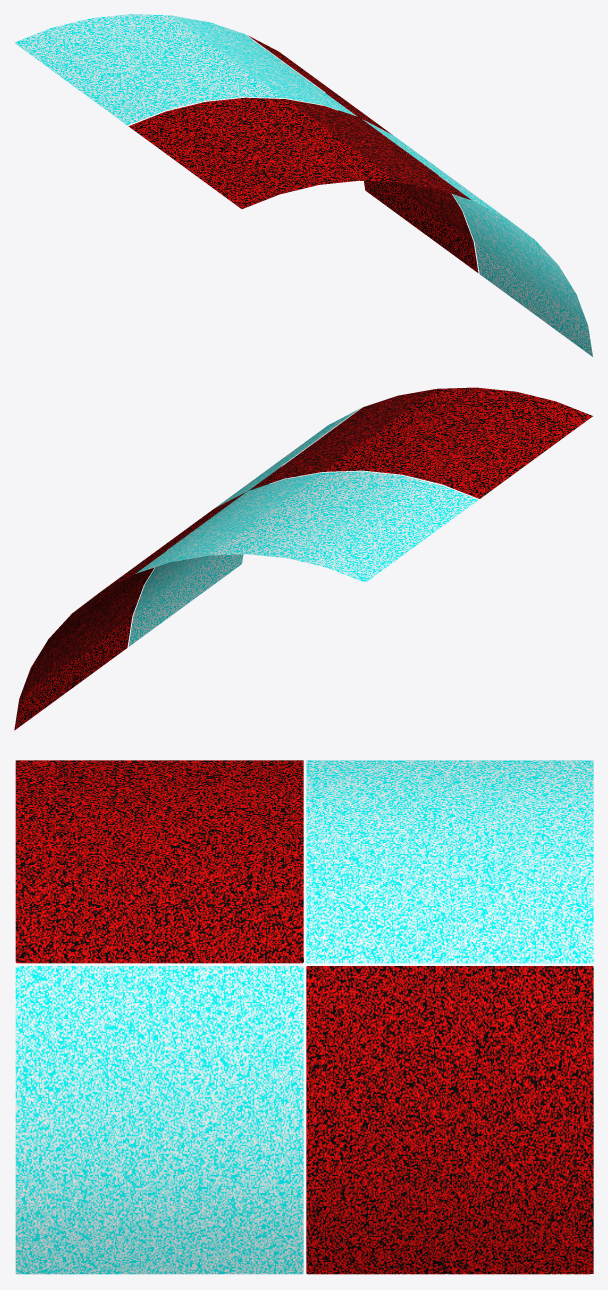
The model's file is SM_Simon_Wave_01_HJS.fbx.
The picture shows the model from 3 angles, top to bottom: view 1: azimuth 30°, elevation 25°; view 2: azimuth 150°, elevation 25°; view 3: azimuth 270°, elevation 25°; orthographic projection. The views are drawn at different scales.
Parts seen in each view (by area): view 1: SM_Simon_Wave_01_HJS; view 2: SM_Simon_Wave_01_HJS; view 3: SM_Simon_Wave_01_HJS.
Boxes of the visible parts, x1=… form: SM_Simon_Wave_01_HJS: x1=14, y1=14, x2=592, y2=356; SM_Simon_Wave_01_HJS: x1=14, y1=387, x2=592, y2=730; SM_Simon_Wave_01_HJS: x1=15, y1=760, x2=593, y2=1274.
Size of the model in its own units: 104 by 68.04 by 117.
